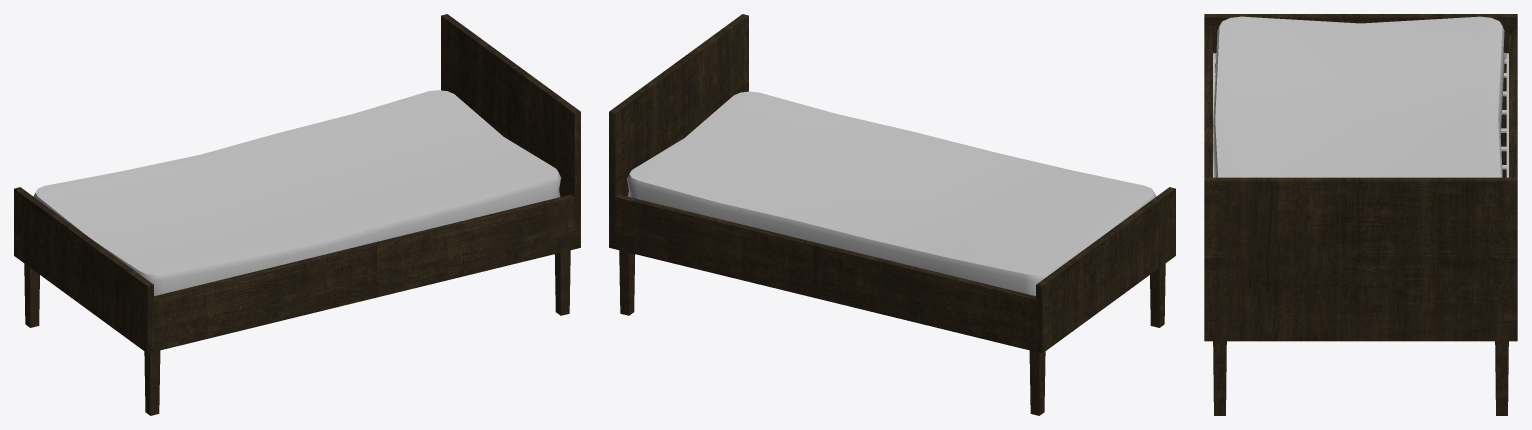
File: bed_3_3.obj
3 views of the same model, side by side, from view 1: azimuth 30°, elevation 25°; view 2: azimuth 150°, elevation 25°; view 3: azimuth 270°, elevation 25° (orthographic). The views are drawn at different scales.
Visible parts, largest first — view 1: bed_3_3; view 2: bed_3_3; view 3: bed_3_3.
Boxes of the visible parts, x1=… form: bed_3_3: x1=14, y1=14, x2=580, y2=415; bed_3_3: x1=609, y1=14, x2=1175, y2=415; bed_3_3: x1=1204, y1=14, x2=1517, y2=415.
Bounding box in the file's own units: 2.7 × 1.21 × 1.44.
